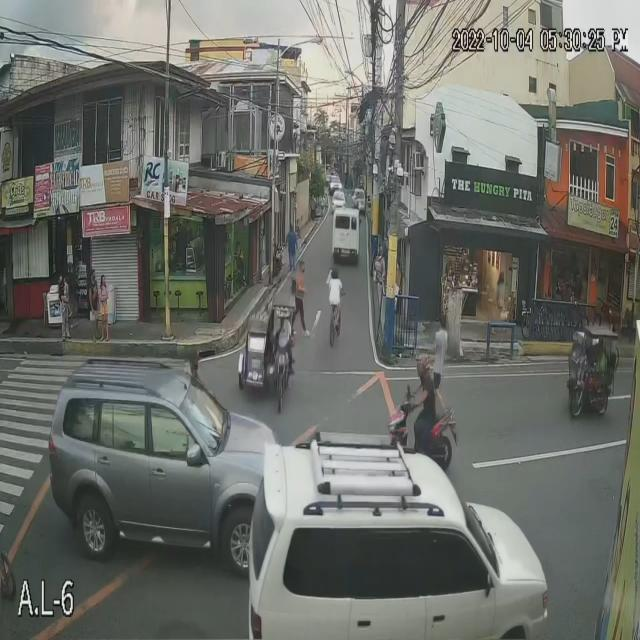full: (414, 354, 430, 377)
